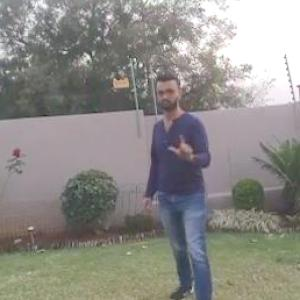land_hand: (169, 122, 201, 163)
